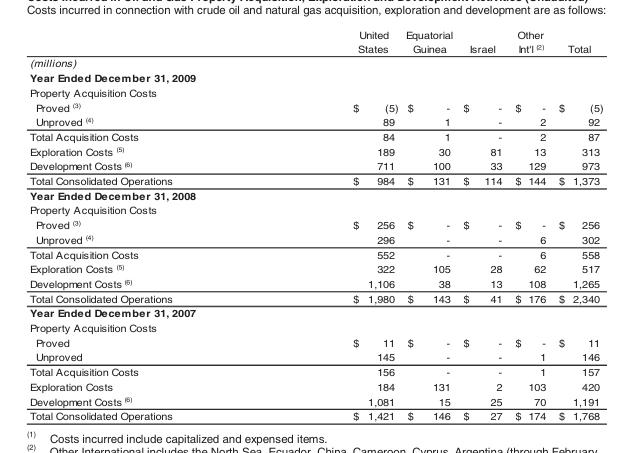table: (28, 28, 602, 421)
table column: (28, 28, 261, 421), (261, 28, 401, 421), (401, 28, 457, 421), (457, 28, 508, 421), (551, 28, 602, 421), (508, 28, 551, 421)
table column header: (28, 28, 602, 55)
table projected row header: (28, 55, 602, 70), (28, 70, 602, 85), (28, 187, 602, 202), (28, 202, 602, 217), (28, 305, 602, 320), (28, 85, 602, 99), (28, 320, 602, 334)
table row: (28, 28, 602, 55), (28, 55, 602, 70), (28, 70, 602, 85), (28, 99, 602, 114), (28, 114, 602, 129), (28, 143, 602, 158), (28, 158, 602, 173), (28, 187, 602, 202), (28, 202, 602, 217), (28, 231, 602, 246), (28, 246, 602, 261), (28, 275, 602, 290), (28, 290, 602, 305), (28, 305, 602, 320), (28, 334, 602, 349), (28, 349, 602, 364), (28, 364, 602, 379), (28, 393, 602, 408), (28, 85, 602, 99), (28, 129, 602, 143), (28, 173, 602, 187), (28, 217, 602, 231), (28, 261, 602, 275), (28, 320, 602, 334), (28, 379, 602, 393), (28, 408, 602, 421)
